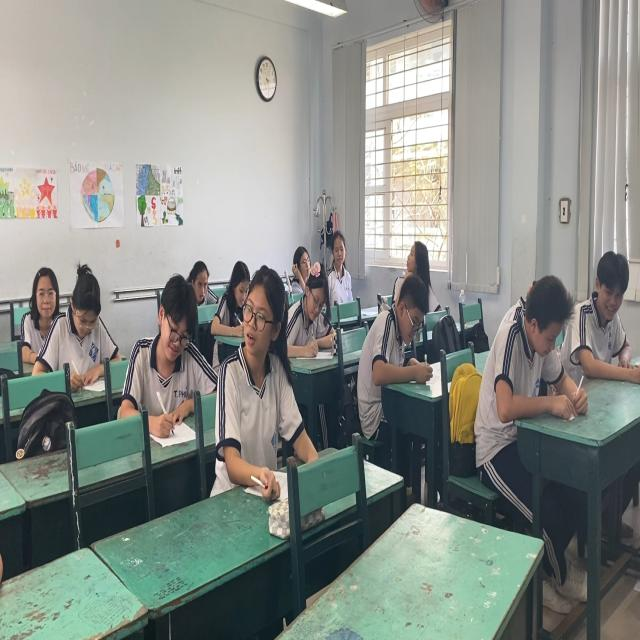cheating: (224, 258, 294, 478), (393, 240, 432, 284)
not_cheating: (490, 264, 574, 416), (138, 264, 193, 424), (578, 251, 636, 395), (366, 278, 438, 378), (64, 268, 114, 378), (28, 261, 65, 330), (302, 268, 327, 354), (325, 229, 352, 298), (215, 265, 248, 316), (290, 240, 312, 298), (190, 251, 214, 298)
